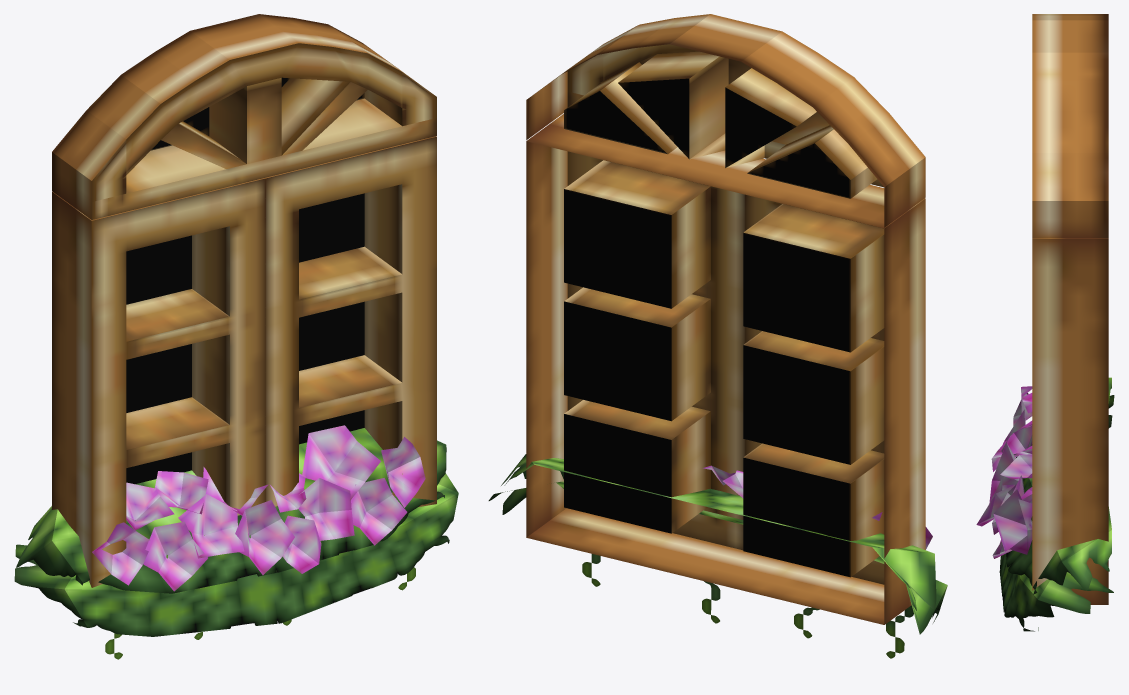
File: Poly_Window_07.obj
3 views of the same model, side by side, from view 1: azimuth 30°, elevation 25°; view 2: azimuth 150°, elevation 25°; view 3: azimuth 270°, elevation 25° (orthographic). The views are drawn at different scales.
Parts seen in each view (by area): view 1: Cube.001, Cube.002, Cube.001_Cube, Cube.001_Cube.002; view 2: Cube.001, Cube.002, Cube.001_Cube, Plane, Cube.001_Cube.002; view 3: Cube.001, Cube.002, Cube.001_Cube, Cube.001_Cube.002.
Boxes of the visible parts, x1,y1,x2,y2 form: Cube.001: (52,136,436,587); Cube.002: (52,14,436,219); Cube.001_Cube: (14,428,458,636); Cube.001_Cube.002: (92,425,425,591); Cube.001: (526,114,925,624); Cube.002: (526,14,925,227); Cube.001_Cube: (488,454,947,634); Plane: (582,554,913,658); Cube.001_Cube.002: (703,465,932,549); Cube.001: (1032,238,1108,604); Cube.002: (1032,14,1108,238); Cube.001_Cube: (999,377,1114,631); Cube.001_Cube.002: (976,386,1032,558).
Size of the model in its own units: 1.26 by 1.63 by 0.3617.
1 material, 1 textured.
